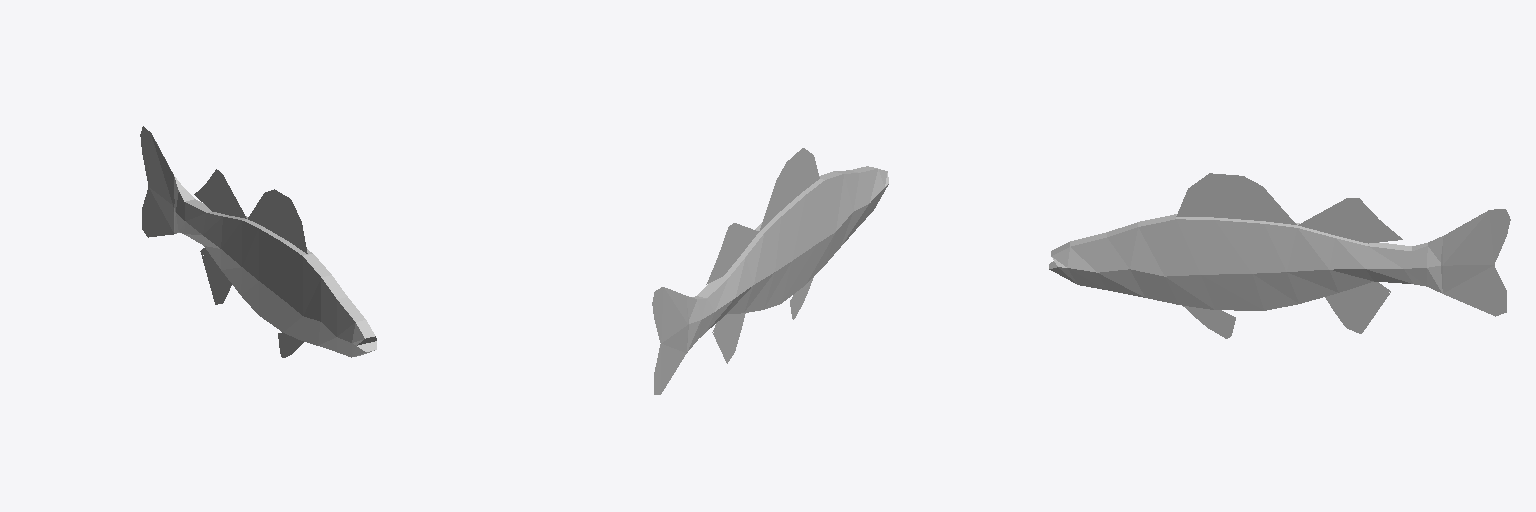
Rendered from Fish8.obj.
The picture shows the model from 3 angles: view 1: azimuth 30°, elevation 25°; view 2: azimuth 150°, elevation 25°; view 3: azimuth 270°, elevation 25°; orthographic projection.
Visible parts, largest first — view 1: Cube.004; view 2: Cube.004; view 3: Cube.004.
Part boxes in pixels (left/top/right/bottom): Cube.004: left=140, top=126, right=376, bottom=357; Cube.004: left=652, top=148, right=888, bottom=394; Cube.004: left=1049, top=173, right=1510, bottom=338.
Bounding box in the file's own units: 0.0736 × 0.5605 × 1.42.